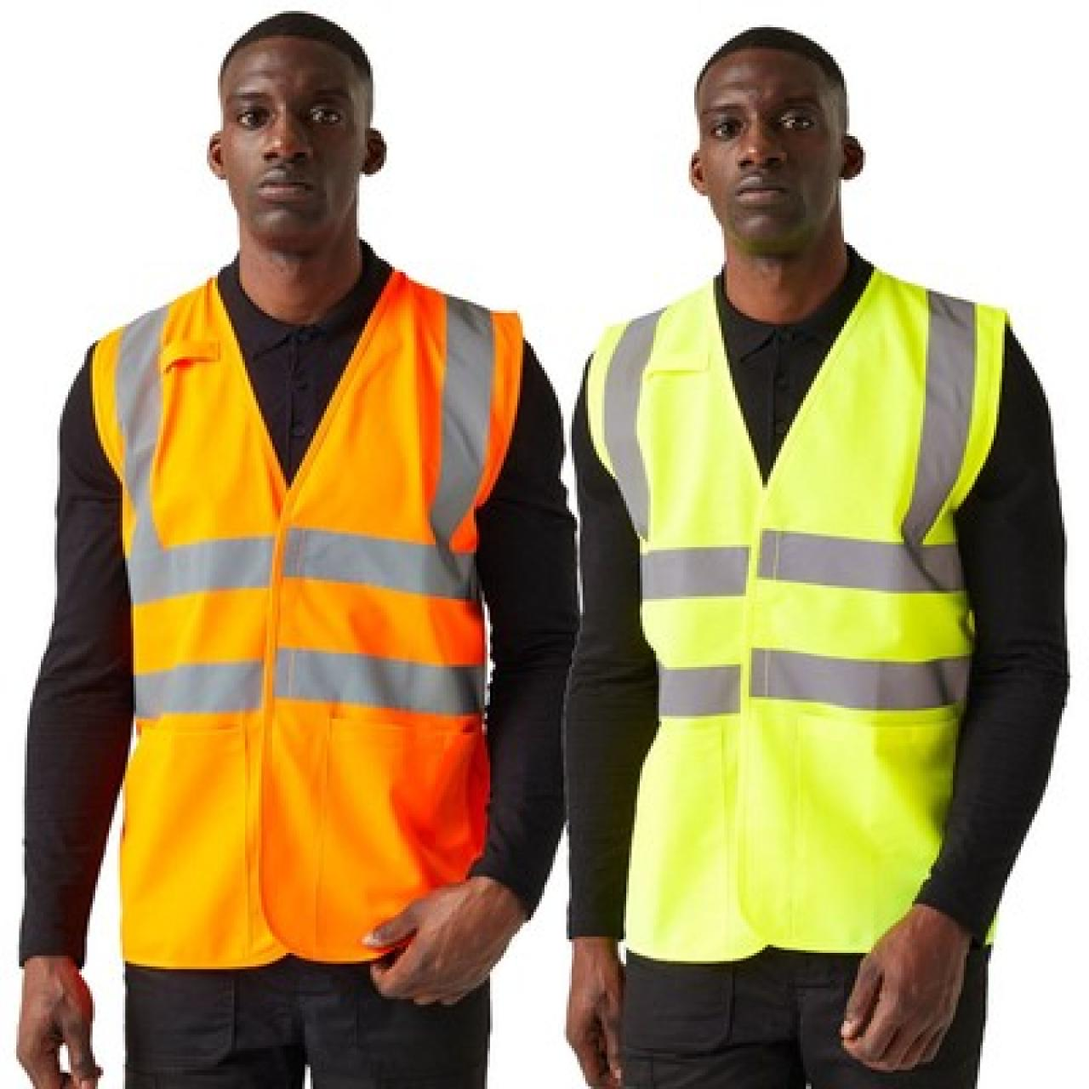Person: (0, 0, 585, 1086), (533, 14, 1089, 1089)
Safety_Vest: (86, 248, 518, 976), (582, 264, 1015, 961)
